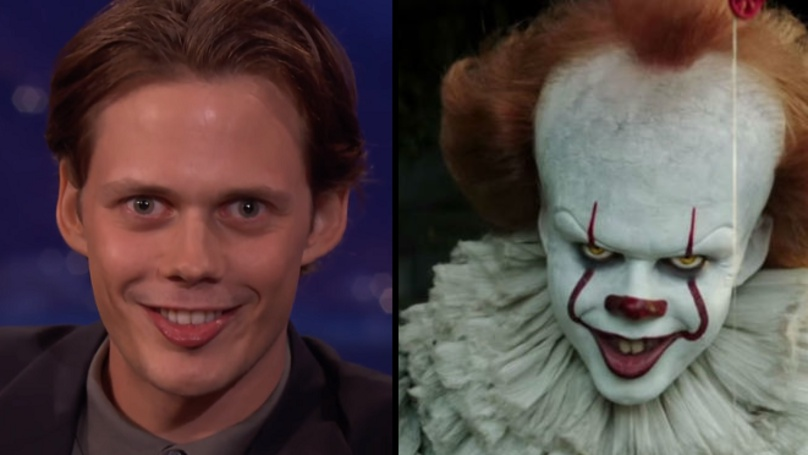bad: (92, 142, 315, 365)
